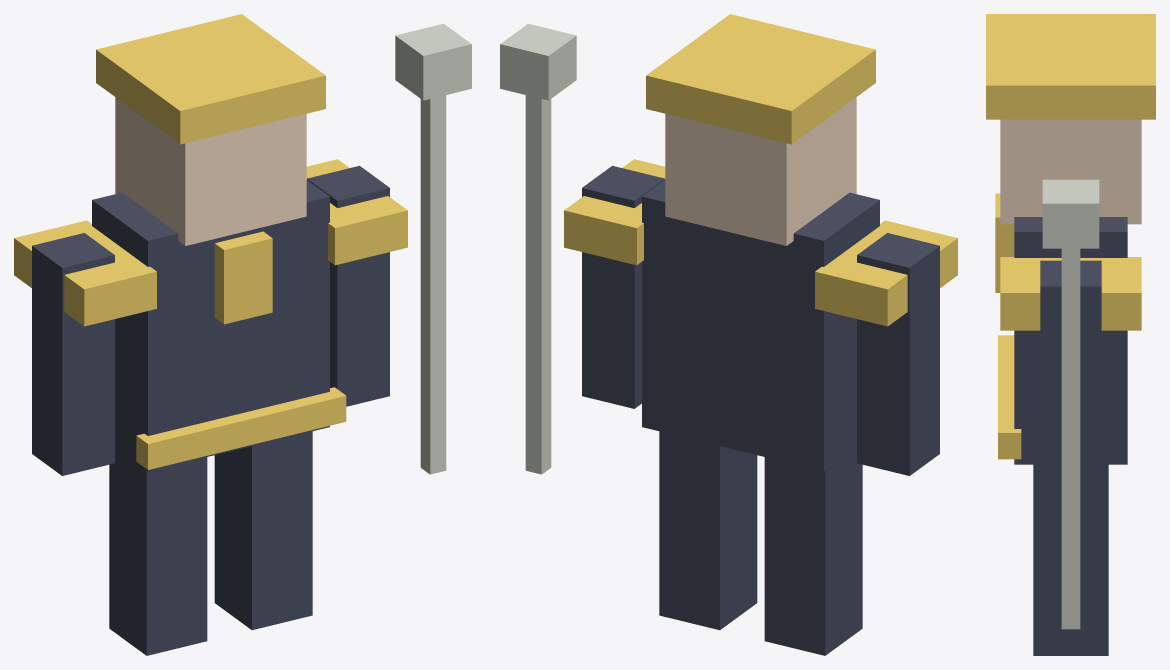
File: 15_dax_ashvein_navigator_under_express.glb
3 views of the same model, side by side, from view 1: azimuth 30°, elevation 25°; view 2: azimuth 150°, elevation 25°; view 3: azimuth 270°, elevation 25° (orthographic).
Parts seen in each view (by area): view 1: Dax Ashvein, Navigator under Express; view 2: Dax Ashvein, Navigator under Express; view 3: Dax Ashvein, Navigator under Express.
Boxes of the visible parts, bbox=[...] form: Dax Ashvein, Navigator under Express: bbox=[14, 14, 471, 655]; Dax Ashvein, Navigator under Express: bbox=[500, 14, 957, 655]; Dax Ashvein, Navigator under Express: bbox=[986, 14, 1155, 655].
Bounding box in the file's own units: 1.11 × 1.44 × 0.3922.
